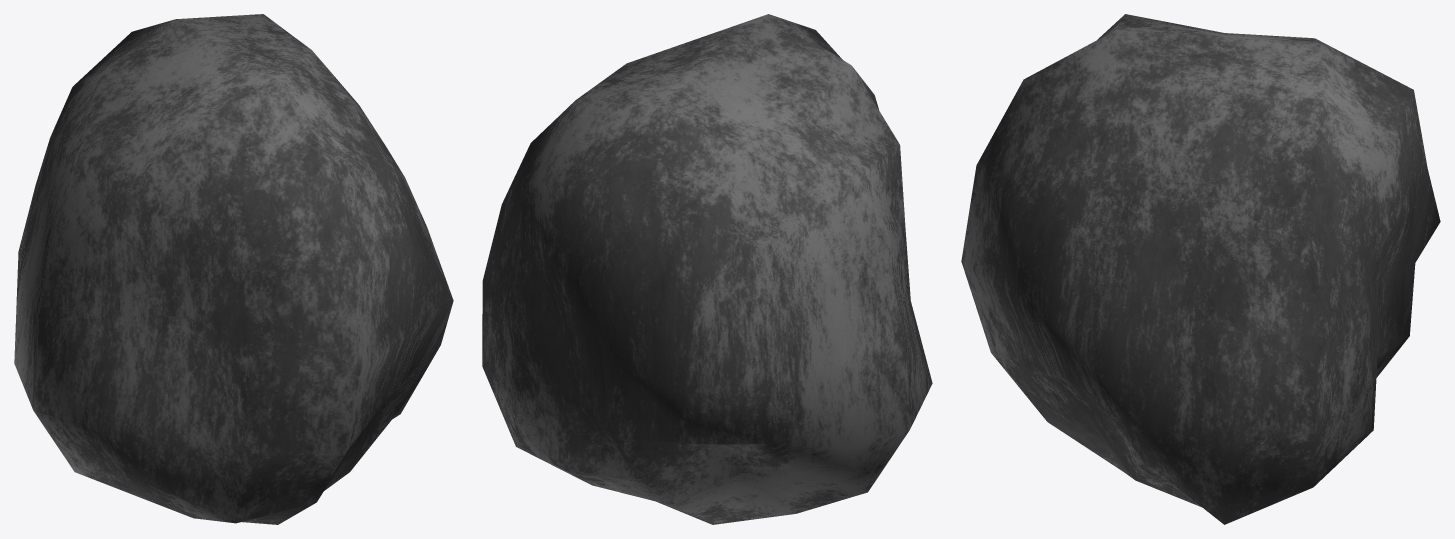
File: Roca.fbx
3 renders of one model, left to right at view 1: azimuth 30°, elevation 25°; view 2: azimuth 150°, elevation 25°; view 3: azimuth 270°, elevation 25°, orthographic. The views are drawn at different scales.
Visible parts, largest first — view 1: Cube.002; view 2: Cube.002; view 3: Cube.002.
Boxes of the visible parts, x1,y1,x2,y2 form: Cube.002: [14, 14, 453, 524]; Cube.002: [482, 14, 932, 524]; Cube.002: [961, 14, 1440, 524].
Size of the model in its own units: 134 by 153 by 145.
